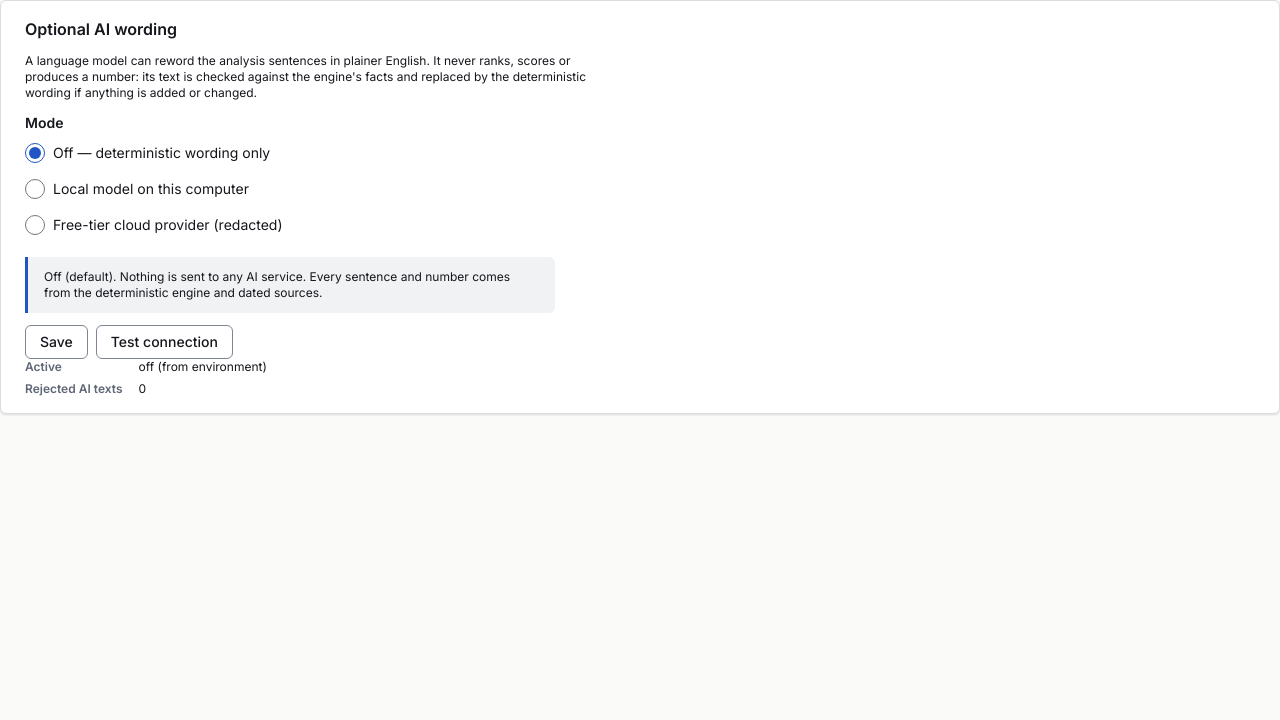
Test: Optional AI wording settings › saves a local config with the loopback default and shows local privacy text
Click the radio button labelled "Local model on this computer".
click(35, 189)  # box [25,179,45,199]
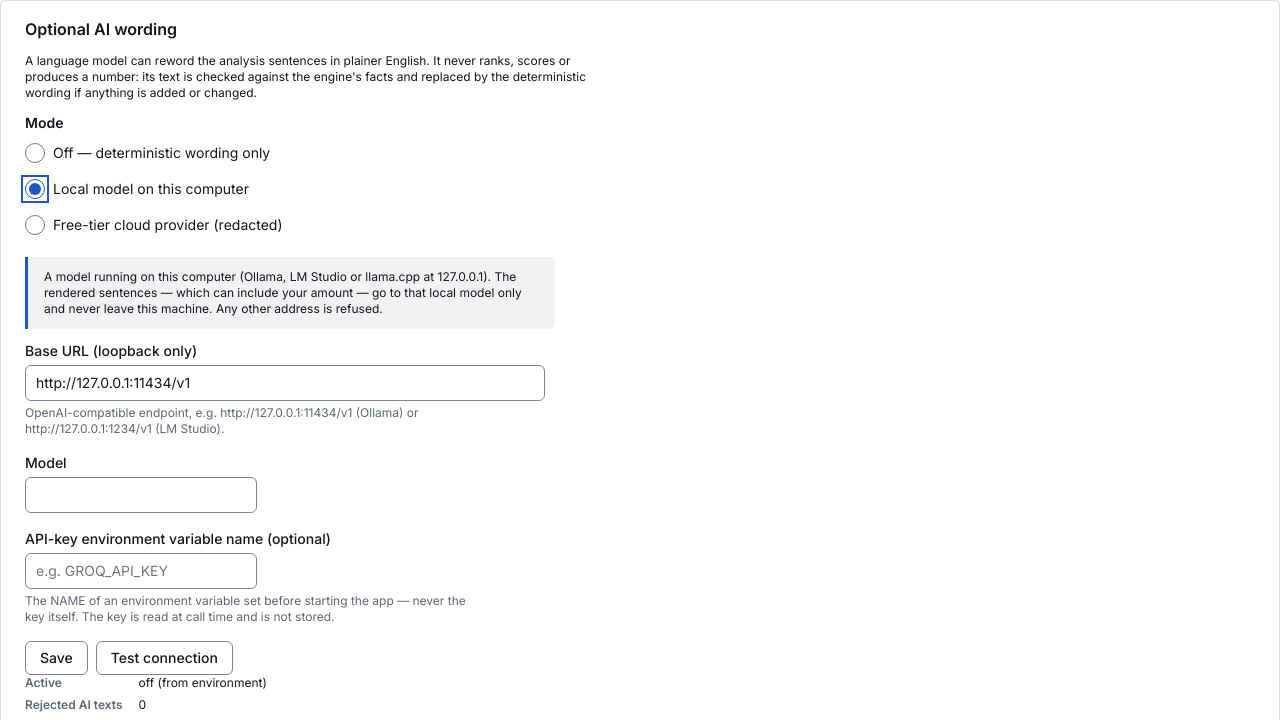
Expected: the text with test id "llm-privacy" shows "never leave this machine", [44,269,522,316]
Expected: the field labelled "Base URL (loopback only)" holds "http://127.0.0.1:11434/v1", [25,365,545,401]
Type "llama3.2:3b" into the field labelled "Model".
click(141, 495); type("llama3.2:3b")  # box [25,477,257,513]
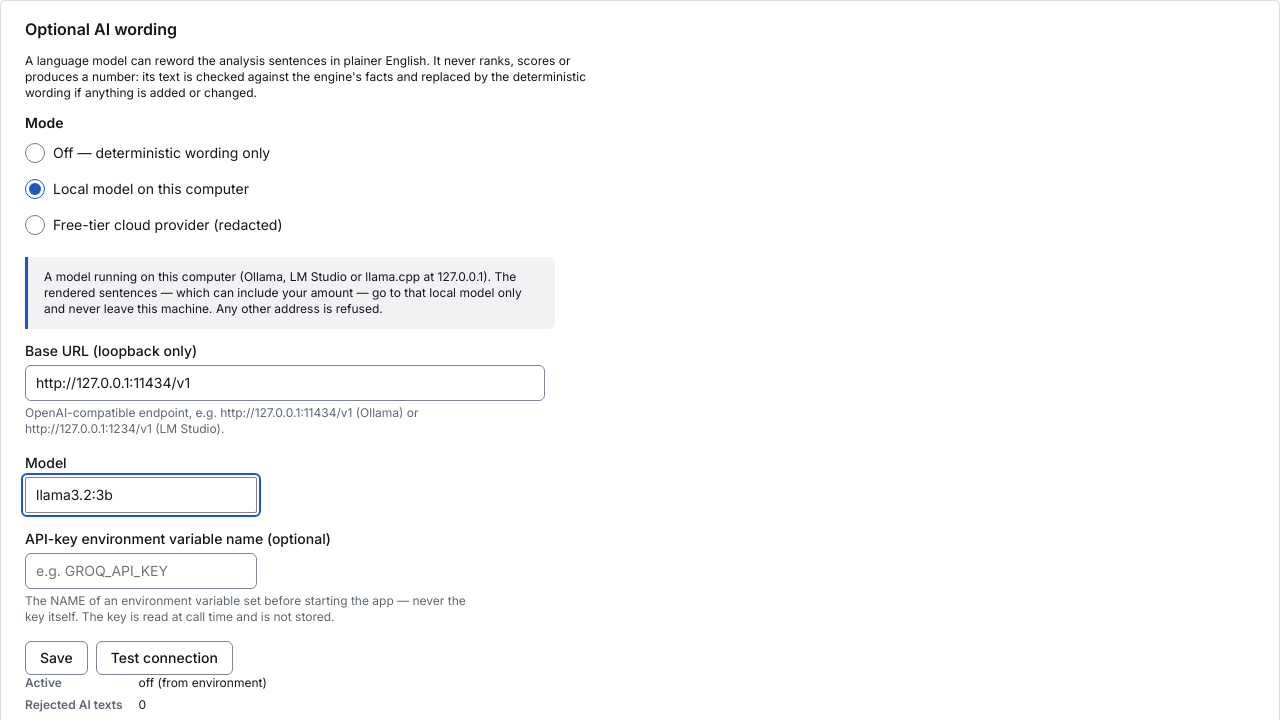
Click the button "Save".
click(56, 658)  # box [25,641,88,675]
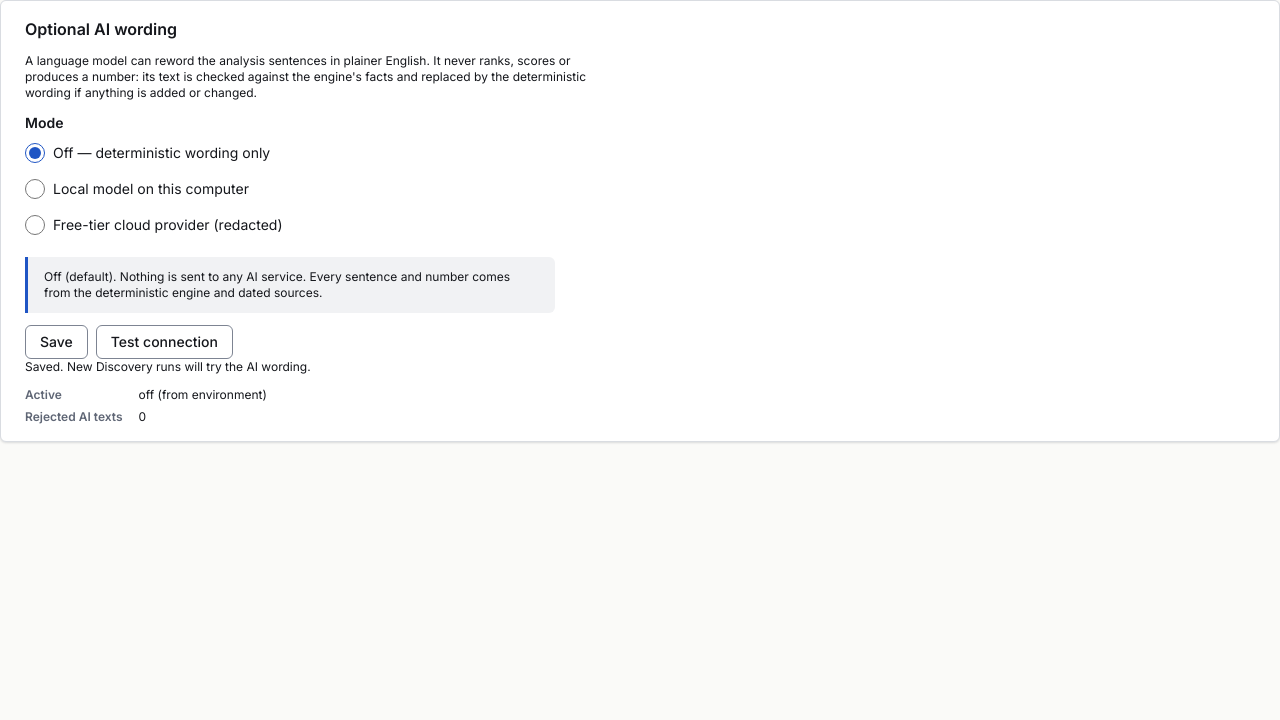
Expected: the text "Saved. New Discovery runs will try the AI wording." is shown, [25,359,311,374]
